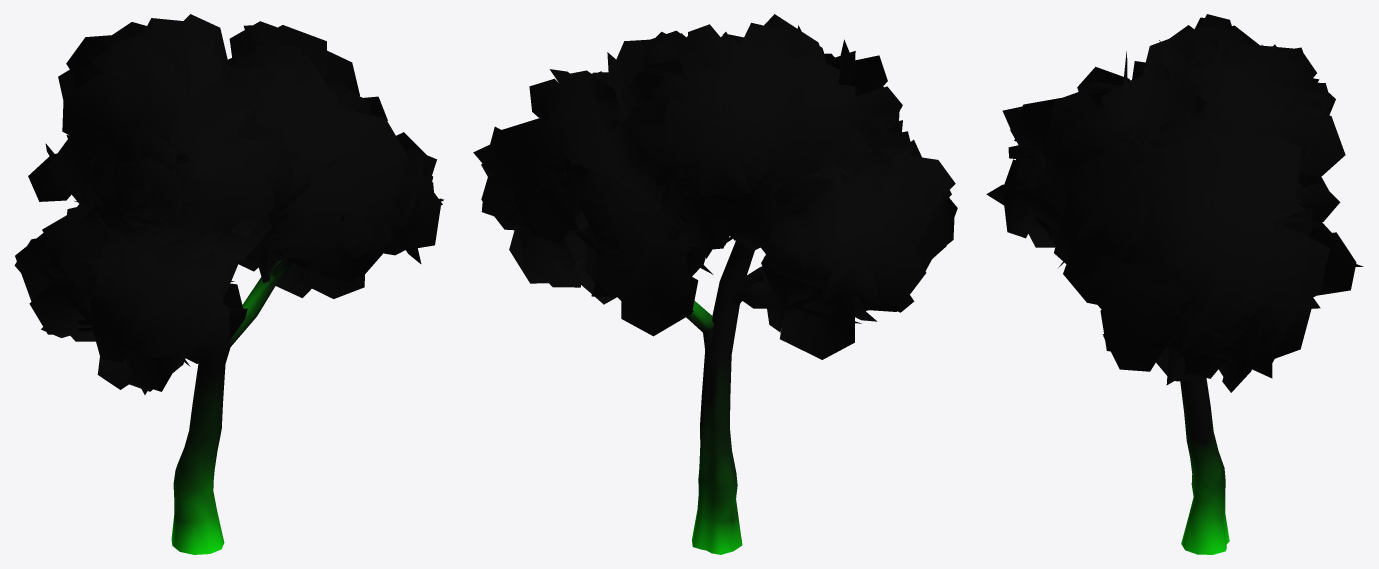
Rendered from SM_OakTreeLarge2.FBX.
3 views of the same model, side by side, from view 1: azimuth 30°, elevation 25°; view 2: azimuth 150°, elevation 25°; view 3: azimuth 270°, elevation 25° (orthographic). The views are drawn at different scales.
Parts seen in each view (by area): view 1: SM_OakTreeLarge2_LOD0; view 2: SM_OakTreeLarge2_LOD0; view 3: SM_OakTreeLarge2_LOD0.
Boxes of the visible parts, left/top/right/bottom form: SM_OakTreeLarge2_LOD0: left=14, top=14, right=443, bottom=554; SM_OakTreeLarge2_LOD0: left=473, top=14, right=957, bottom=554; SM_OakTreeLarge2_LOD0: left=986, top=14, right=1363, bottom=554.
Size of the model in its own units: 2390 by 1955 by 2874.
